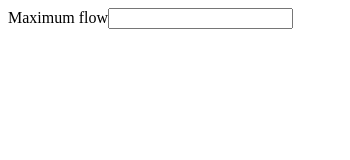
Scenario: MathNumberInput › marks an invalid expression without reversing or clearing it
The width and height of the screenshot is (350, 160).
Step 1. Type "22.5 *" into the number field labelled "Maximum flow" → (200, 18), box [108,8,293,29]
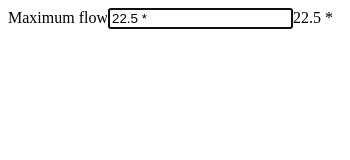
Step 2. Press Tab
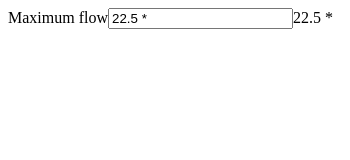
Now the number field labelled "Maximum flow" is marked as invalid, box [108,8,293,29]
